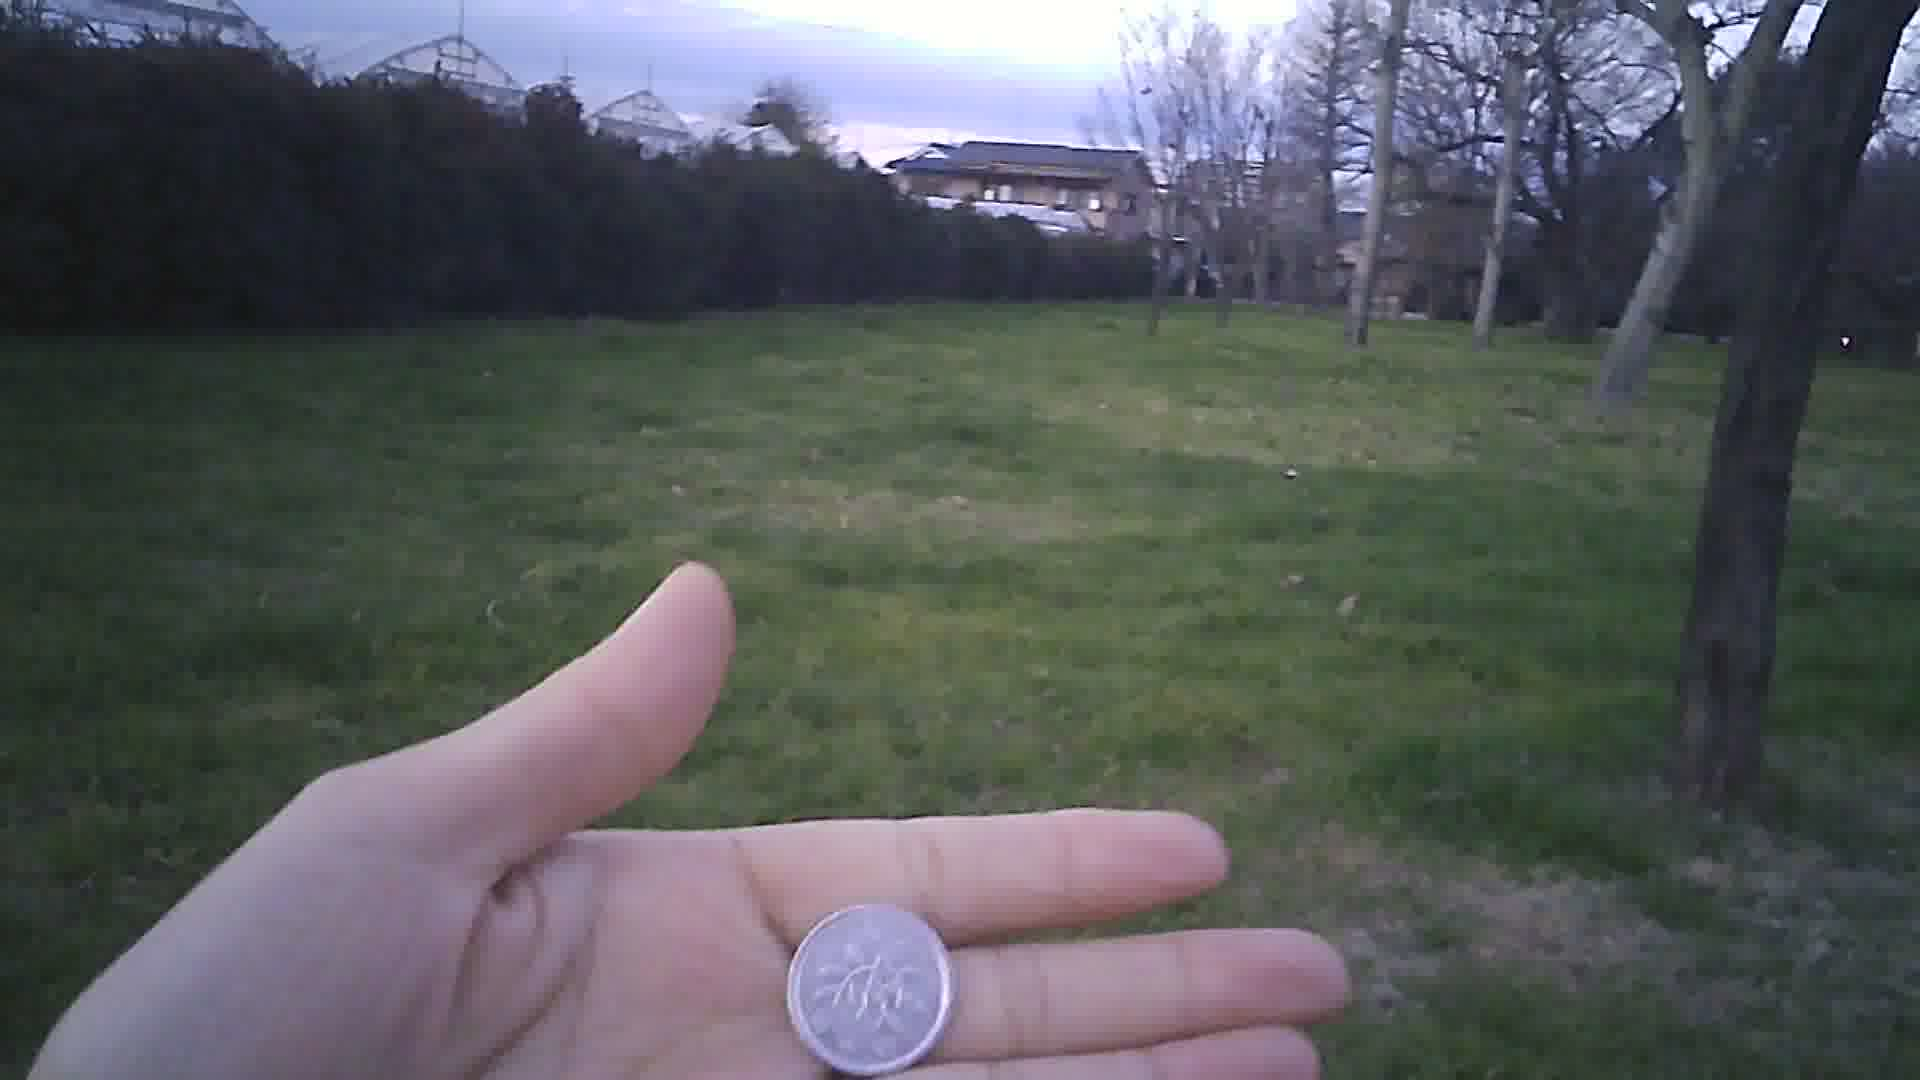1 Yen: (770, 895, 957, 1073)
